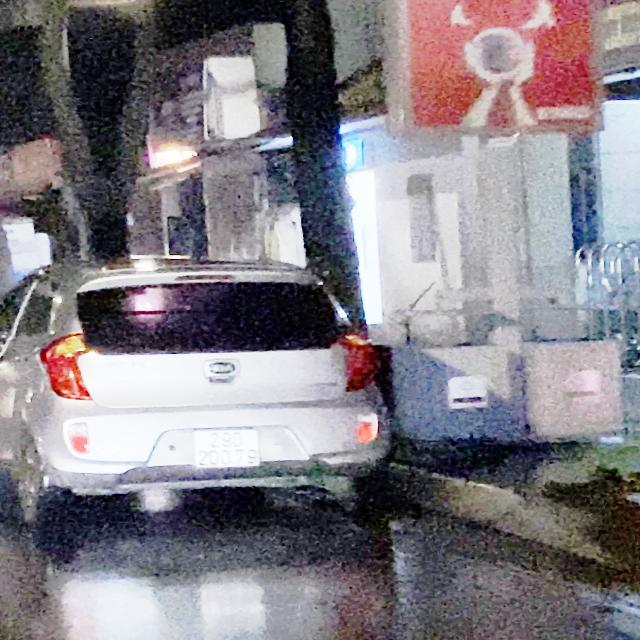license_plate: (191, 428, 264, 471)
